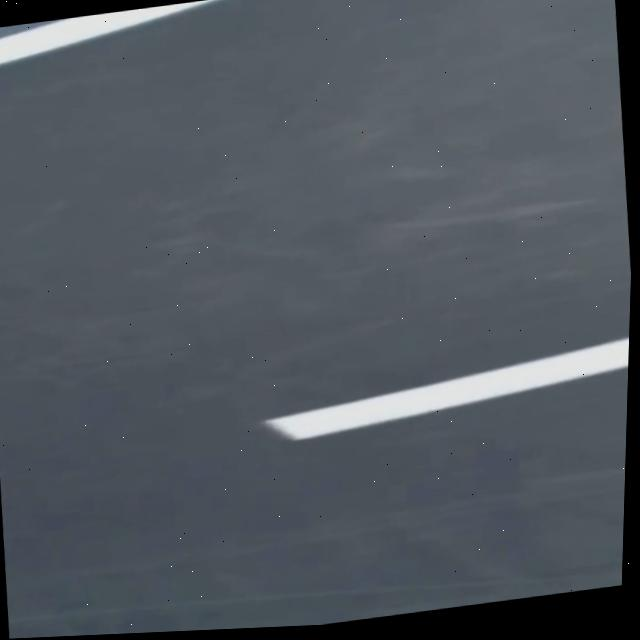center: (261, 336, 629, 438)
left: (0, 0, 212, 63)
